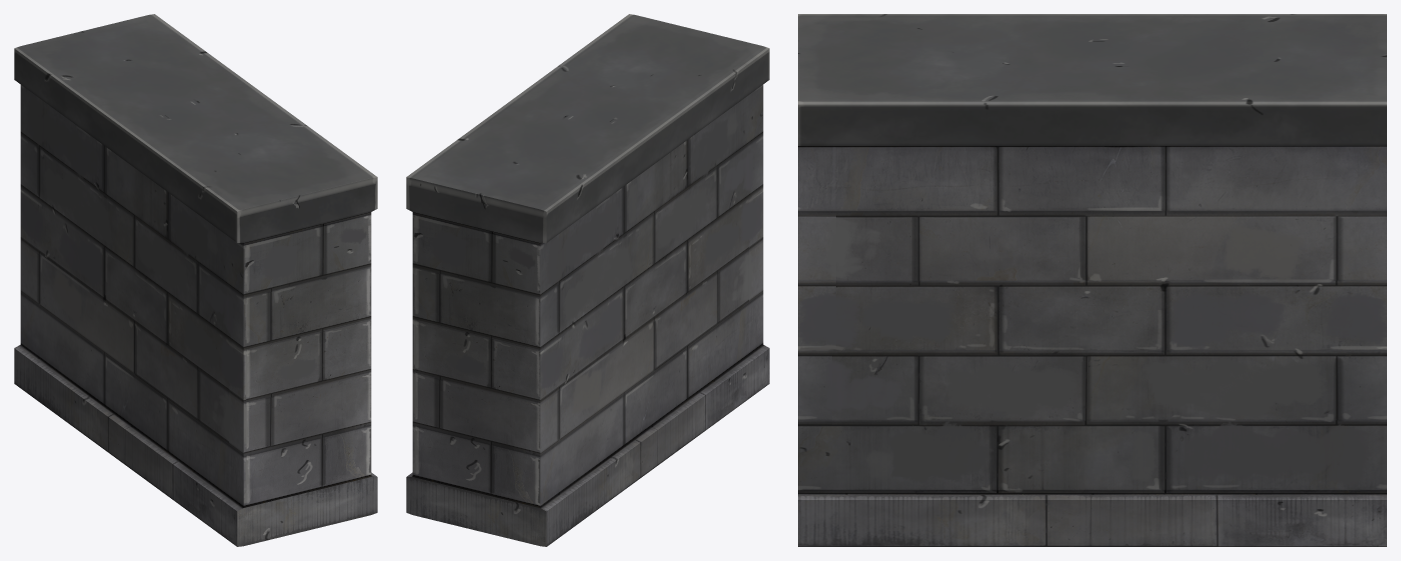
The model's file is short_wall.fbx.
3 renders of one model, left to right at view 1: azimuth 30°, elevation 25°; view 2: azimuth 150°, elevation 25°; view 3: azimuth 270°, elevation 25°, orthographic. The views are drawn at different scales.
Visible parts, largest first — view 1: Cube.032; view 2: Cube.032; view 3: Cube.032.
Part boxes in pixels (x1,y1,x2,y2): Cube.032: [14, 14, 377, 546]; Cube.032: [406, 14, 769, 546]; Cube.032: [798, 14, 1386, 546].
Bounding box in the file's own units: 0.3638 × 0.8328 × 1.
